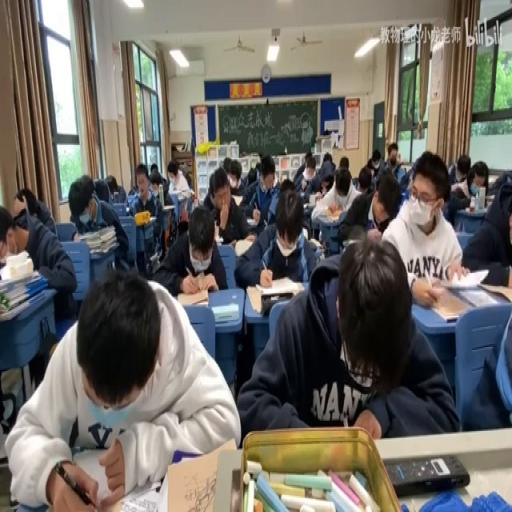calculator: (68, 444, 153, 508), (165, 441, 238, 512), (434, 267, 488, 289), (457, 286, 502, 308), (254, 274, 302, 293), (176, 287, 209, 306), (212, 300, 238, 322), (245, 284, 262, 312), (233, 236, 254, 256), (146, 250, 160, 273), (317, 208, 342, 220), (462, 206, 485, 216), (307, 234, 322, 248), (230, 194, 244, 208), (342, 236, 360, 245), (213, 223, 221, 242), (244, 214, 258, 224), (303, 201, 315, 209), (485, 192, 494, 202), (162, 204, 174, 210), (189, 189, 194, 198)
paper: (9, 266, 238, 509), (238, 234, 452, 440), (381, 152, 464, 296), (1, 193, 77, 326), (232, 188, 318, 290), (150, 205, 226, 297), (462, 293, 510, 429), (68, 175, 130, 273), (459, 175, 512, 276), (334, 169, 382, 246), (130, 160, 164, 254), (166, 158, 192, 227), (380, 142, 406, 189), (294, 154, 320, 196), (399, 155, 421, 196), (14, 186, 38, 219), (202, 171, 220, 212), (446, 153, 469, 185), (486, 168, 510, 195), (258, 161, 274, 192), (104, 175, 122, 202), (366, 154, 380, 179), (134, 171, 148, 195), (228, 164, 241, 189), (278, 176, 296, 194), (471, 172, 487, 191), (245, 164, 258, 186), (451, 184, 469, 199), (359, 176, 370, 194), (320, 178, 333, 193), (222, 156, 232, 174), (167, 168, 178, 182), (338, 155, 348, 169), (322, 150, 331, 164), (128, 183, 138, 195), (149, 162, 158, 175), (185, 171, 192, 186), (254, 161, 261, 175), (306, 149, 312, 161)
person: (386, 452, 470, 496), (0, 462, 17, 511), (260, 292, 294, 314)
